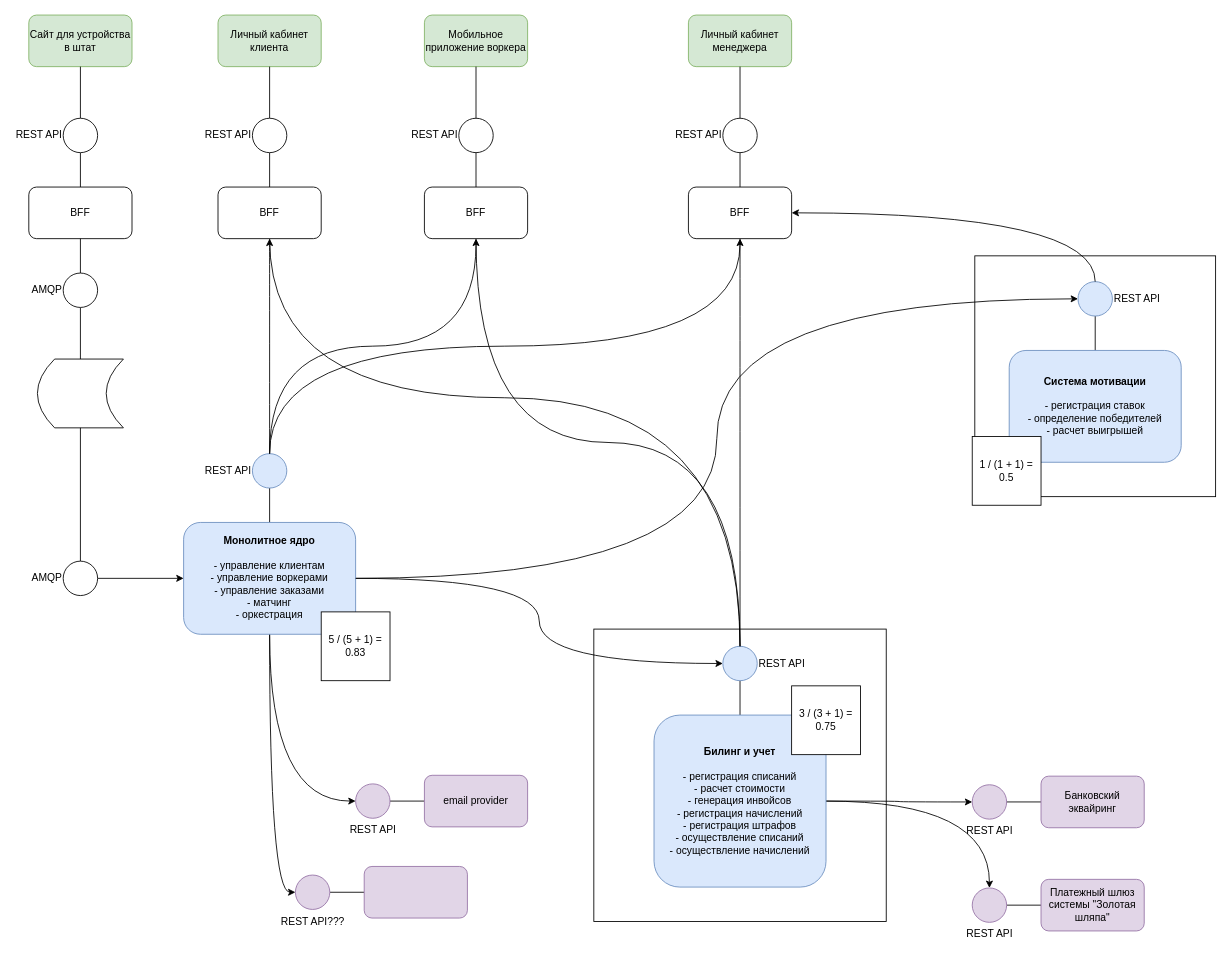
This 1231x955 diagram has some shape labels left out. The shapes that lost their labels are listed below. From the top down, each one's box as (x1, y1, x2, y2) in pixels, then its label:
(37, 358, 123, 428): Queue
(974, 255, 1216, 497): Серая зона
(593, 628, 886, 921): Зона безопасности
(363, 866, 467, 918): Печеньковый подрядчик
